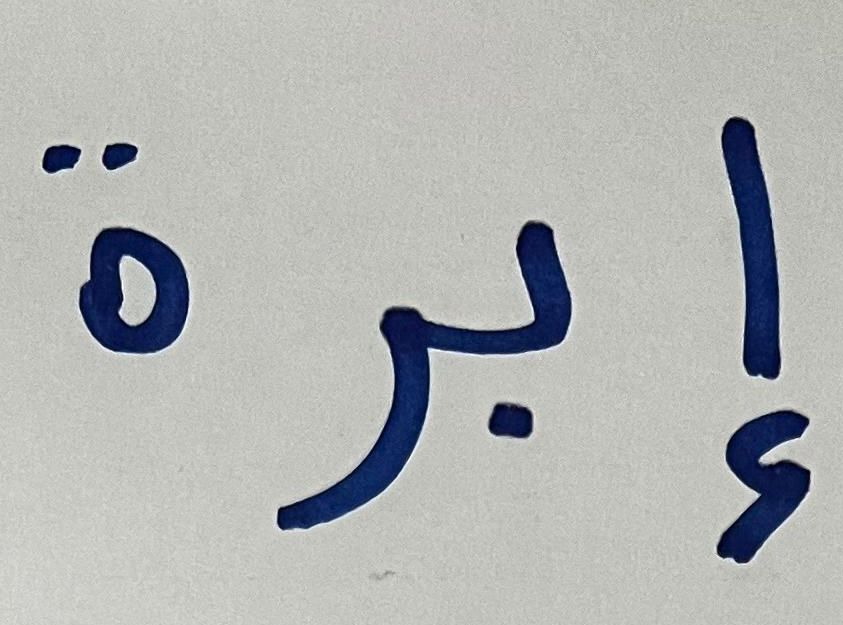beh: (447, 162, 630, 470)
hamza: (666, 69, 843, 586)
reh: (254, 244, 442, 551)
teh_marbota: (17, 109, 233, 426)
